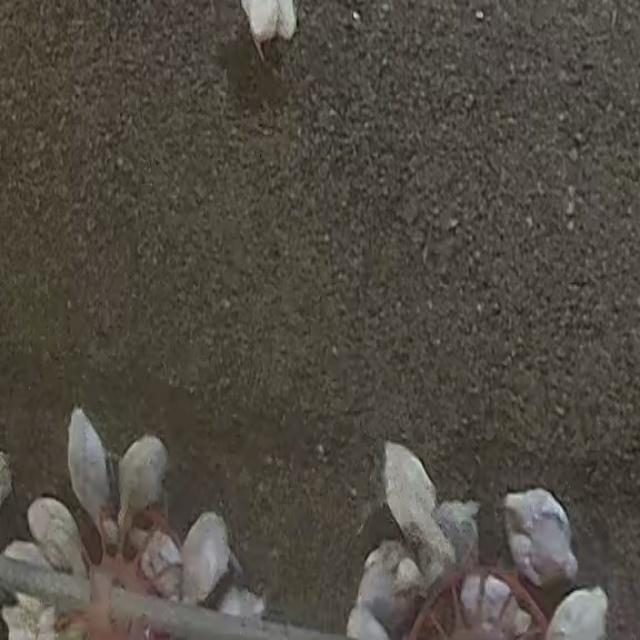chicken: (379, 438, 458, 565), (501, 489, 582, 584), (66, 404, 117, 544), (358, 544, 420, 633), (424, 496, 485, 580), (128, 525, 185, 606), (123, 434, 171, 527), (461, 577, 534, 638), (29, 498, 87, 574), (181, 512, 229, 602), (546, 581, 614, 640), (241, 0, 299, 48), (341, 606, 395, 640)
